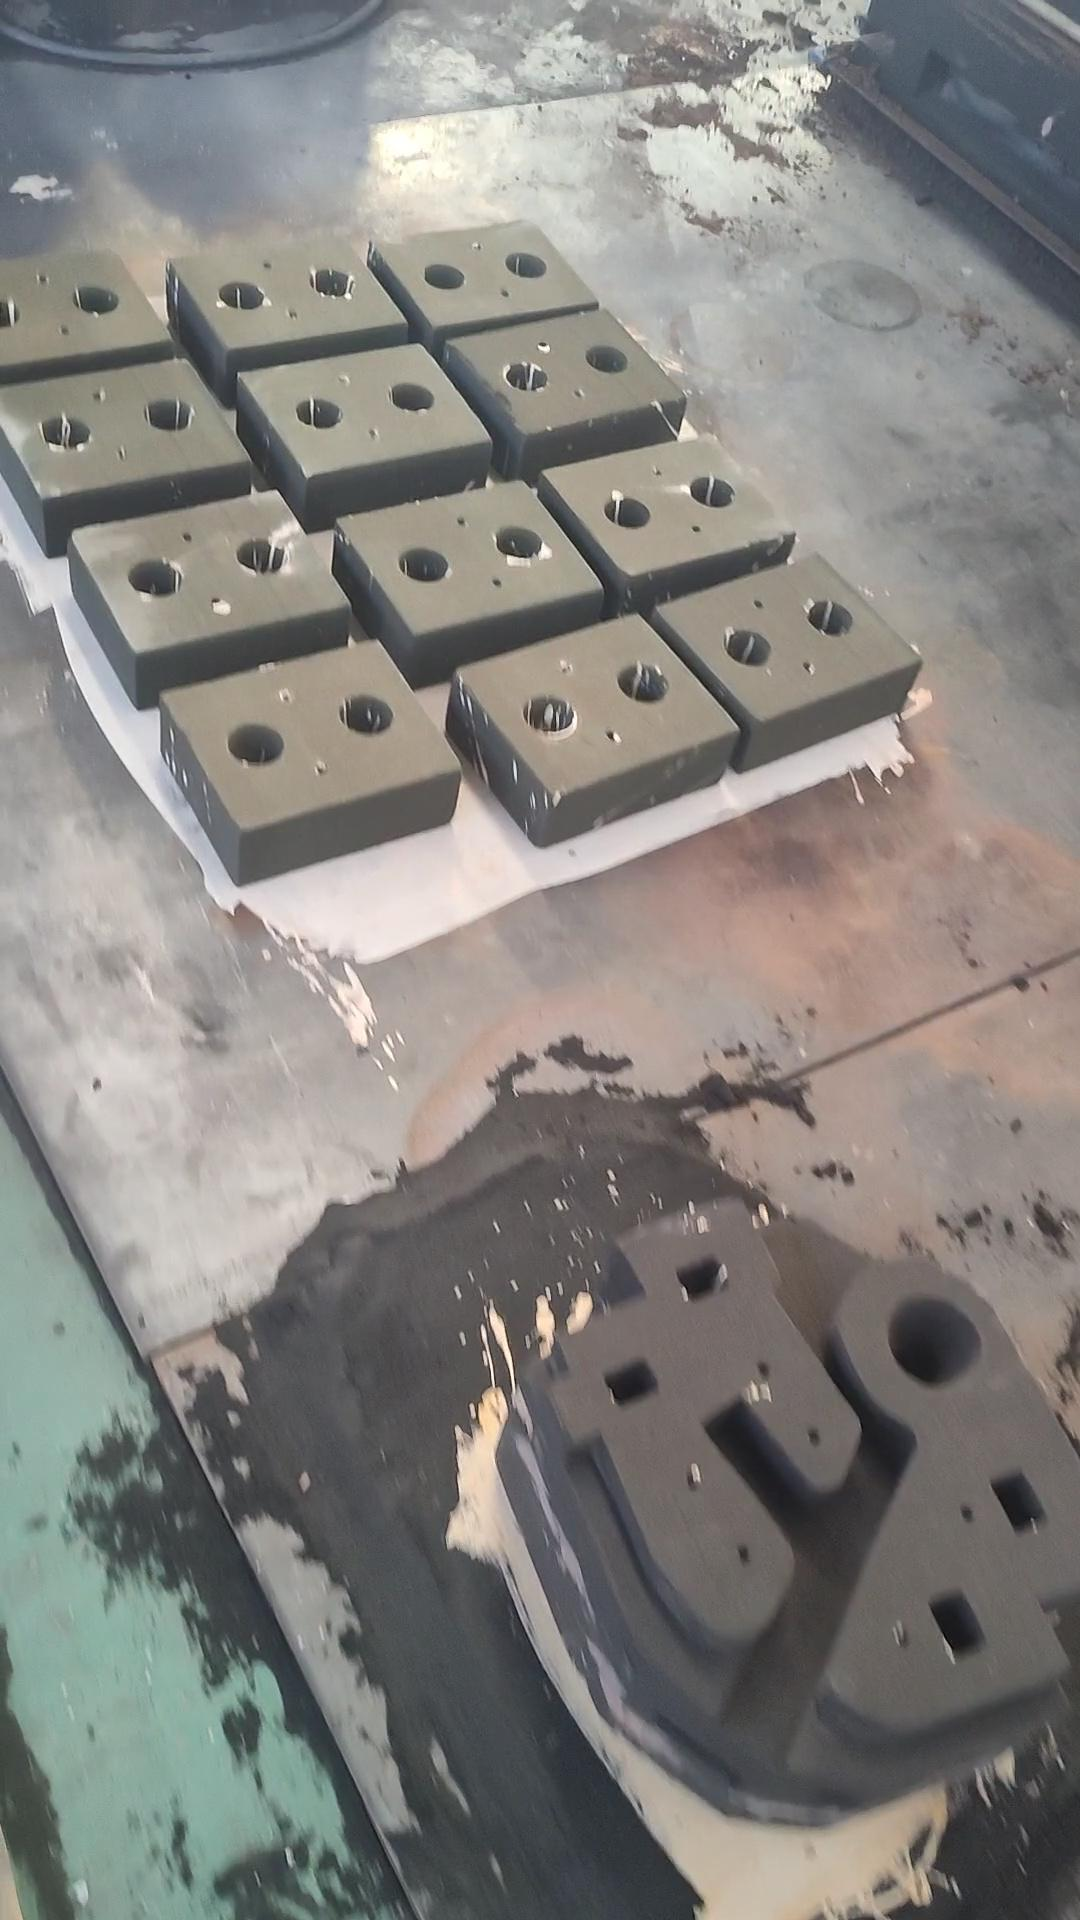pouring hole: (887, 1296, 982, 1389), (225, 724, 285, 766), (340, 694, 393, 736), (129, 559, 183, 599), (617, 665, 669, 703), (522, 696, 574, 733), (397, 547, 448, 583), (36, 418, 90, 451), (236, 539, 287, 574), (724, 630, 771, 667), (495, 525, 543, 556), (142, 400, 193, 430), (295, 397, 343, 429), (808, 603, 852, 637), (688, 477, 736, 508), (71, 285, 119, 314), (604, 498, 651, 527), (219, 281, 265, 310), (501, 364, 549, 392), (389, 382, 434, 411), (309, 269, 353, 297), (419, 264, 465, 290), (587, 345, 628, 375), (505, 252, 547, 280), (1, 297, 20, 330)
